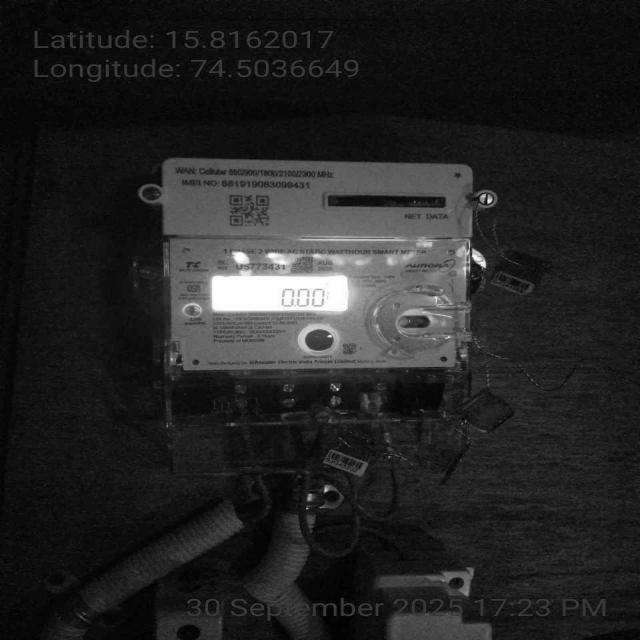meter: (164, 158, 477, 368)
